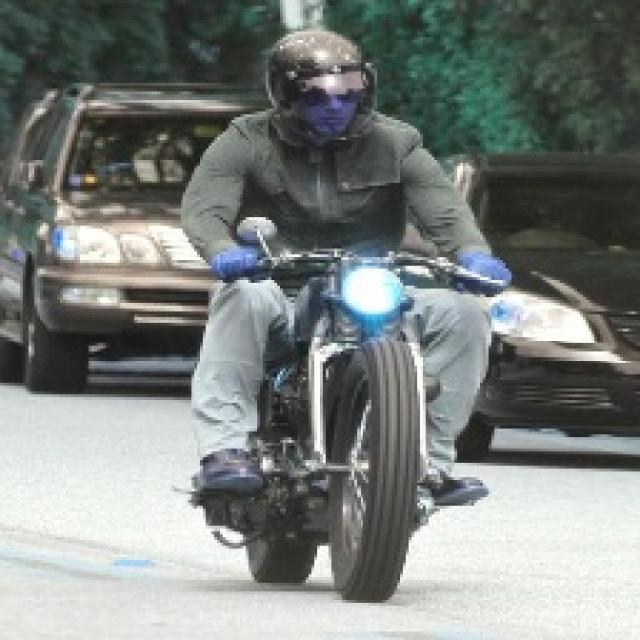bike: (238, 256, 440, 615)
